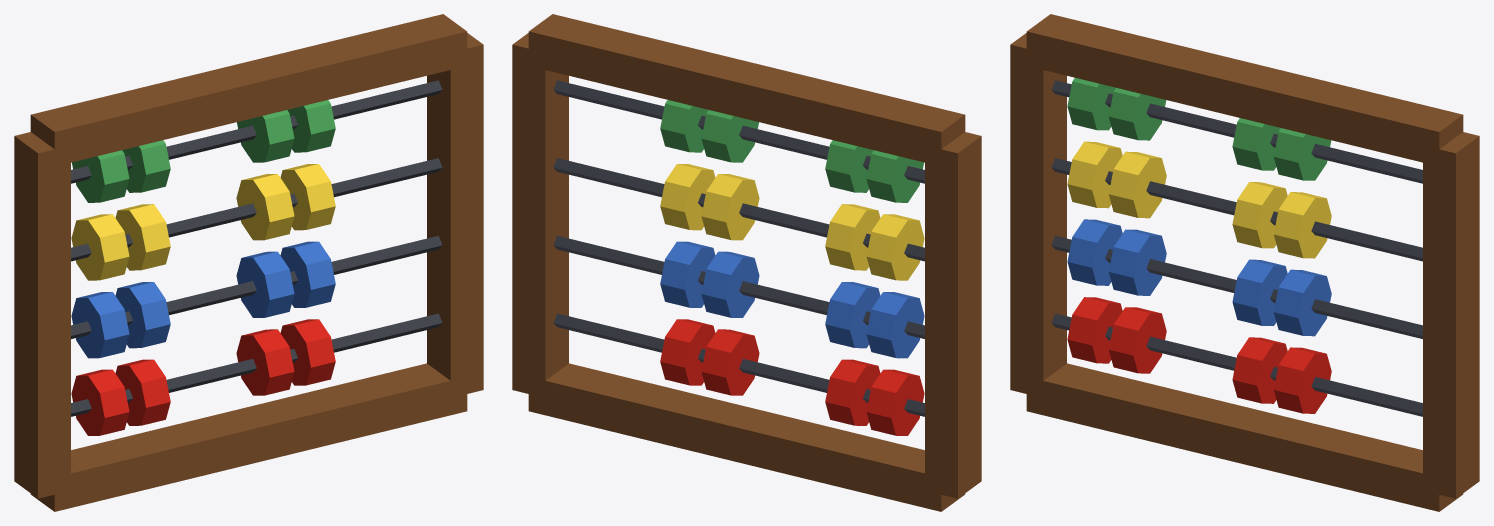
The model's file is abacus.fbx.
The picture shows the model from 3 angles, left to right: view 1: azimuth 30°, elevation 25°; view 2: azimuth 150°, elevation 25°; view 3: azimuth 330°, elevation 25°; orthographic projection.
Visible parts, largest first — view 1: abacus; view 2: abacus; view 3: abacus.
Part boxes in pixels (x1=…): abacus: x1=14, y1=14, x2=483, y2=511; abacus: x1=512, y1=14, x2=981, y2=511; abacus: x1=1010, y1=14, x2=1479, y2=511.
Bounding box in the file's own units: 0.54 × 0.44 × 0.07.
